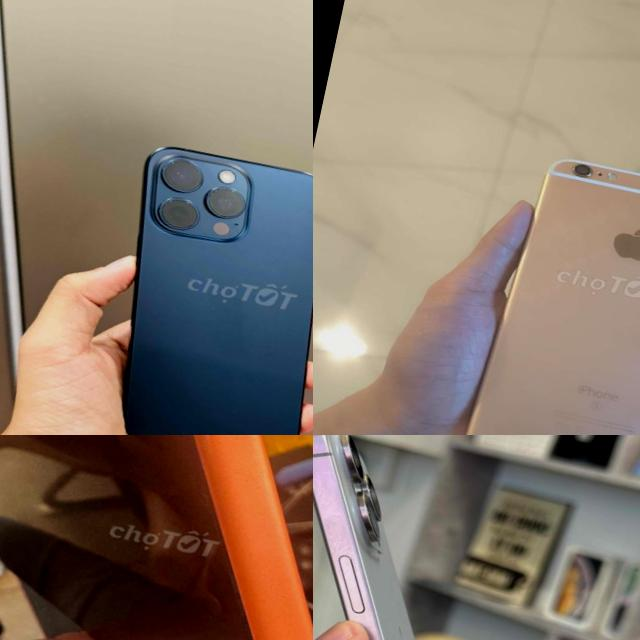gen_15: (78, 129, 313, 435), (313, 435, 610, 640)
gen_17: (0, 435, 313, 640)
gen_6: (443, 129, 640, 435)
